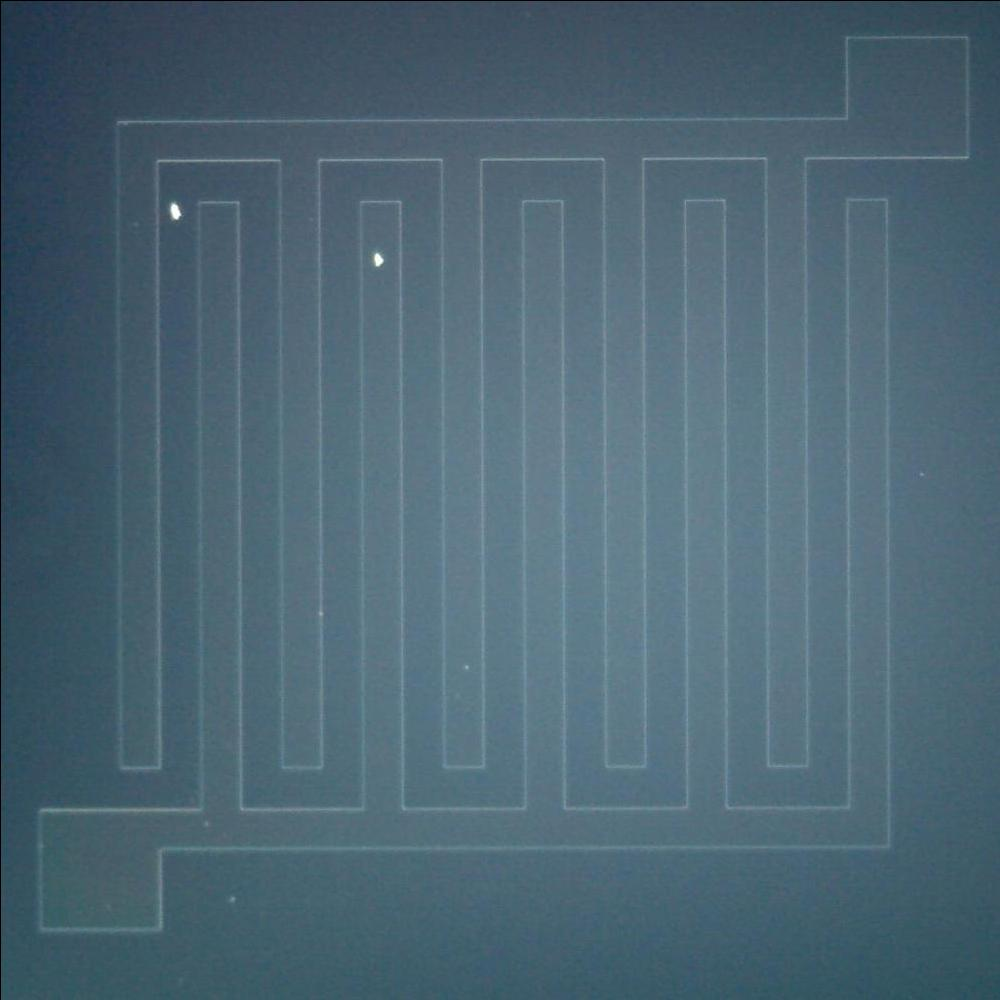spot: (157, 194, 188, 228), (363, 244, 390, 272)
